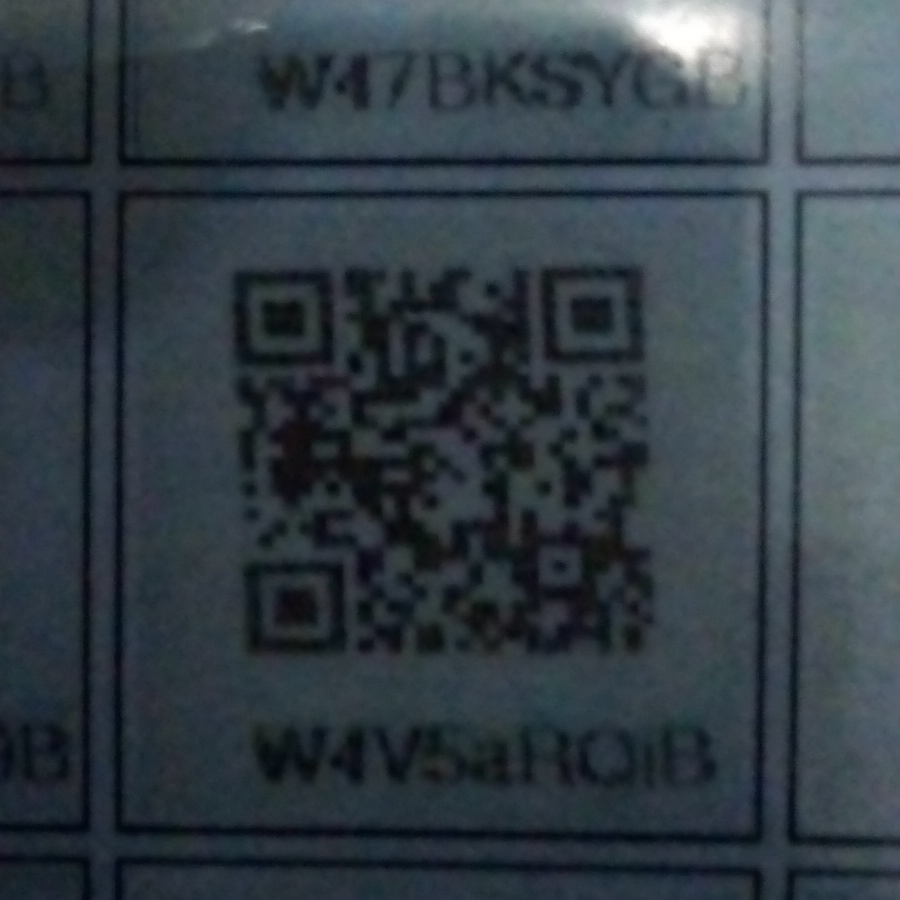QR-CODE: (209, 247, 676, 679)
